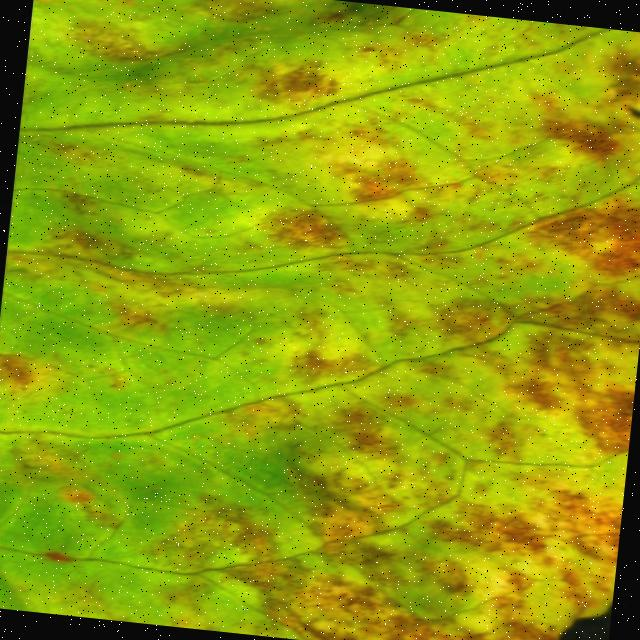Septoria_Blight_on_lettuce: (3, 0, 640, 619)
